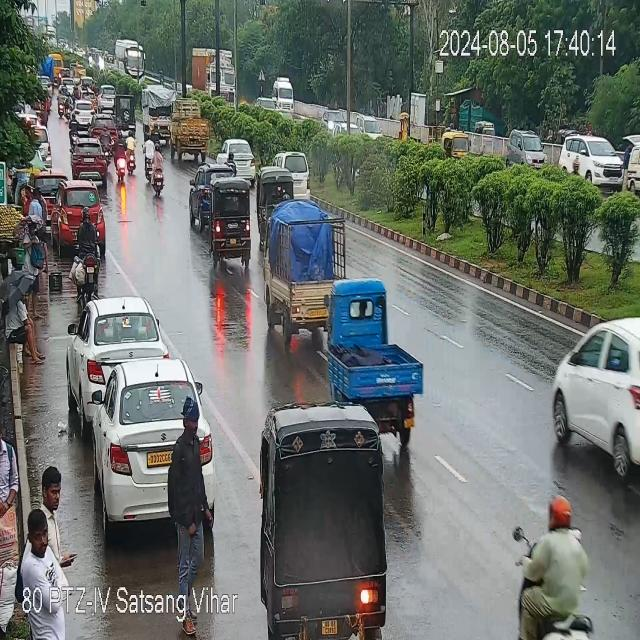2-wheelers: (75, 203, 101, 299), (144, 143, 168, 196), (116, 136, 134, 180), (102, 122, 114, 162), (69, 110, 78, 150), (64, 90, 72, 120), (56, 88, 63, 120), (91, 80, 98, 93)
auto: (260, 400, 392, 613), (332, 273, 418, 430), (205, 175, 254, 265), (255, 166, 281, 237), (437, 133, 471, 157)
bus: (116, 38, 146, 80)
car: (80, 360, 214, 533), (550, 321, 636, 482), (72, 298, 166, 402), (557, 132, 629, 190), (57, 185, 106, 243), (505, 124, 546, 171), (210, 138, 256, 176), (71, 141, 110, 180), (290, 146, 312, 201), (272, 77, 296, 120), (92, 112, 115, 145), (38, 124, 53, 167), (357, 115, 380, 141), (76, 97, 91, 134), (99, 86, 116, 112), (324, 108, 344, 130)
pedestrian: (168, 408, 213, 559), (20, 519, 66, 599), (7, 284, 47, 362), (39, 460, 72, 538), (26, 187, 52, 232)
truck: (266, 204, 338, 335), (190, 46, 242, 104), (170, 102, 216, 160), (140, 85, 169, 137)
